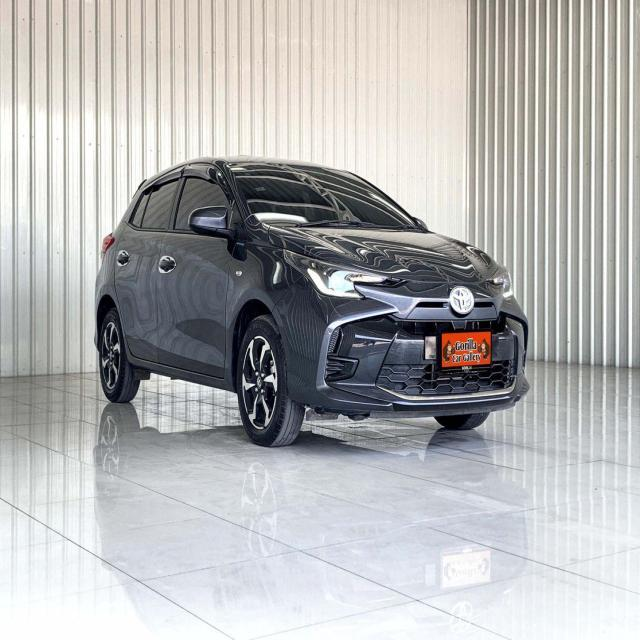Hatchback: (94, 158, 531, 450)
